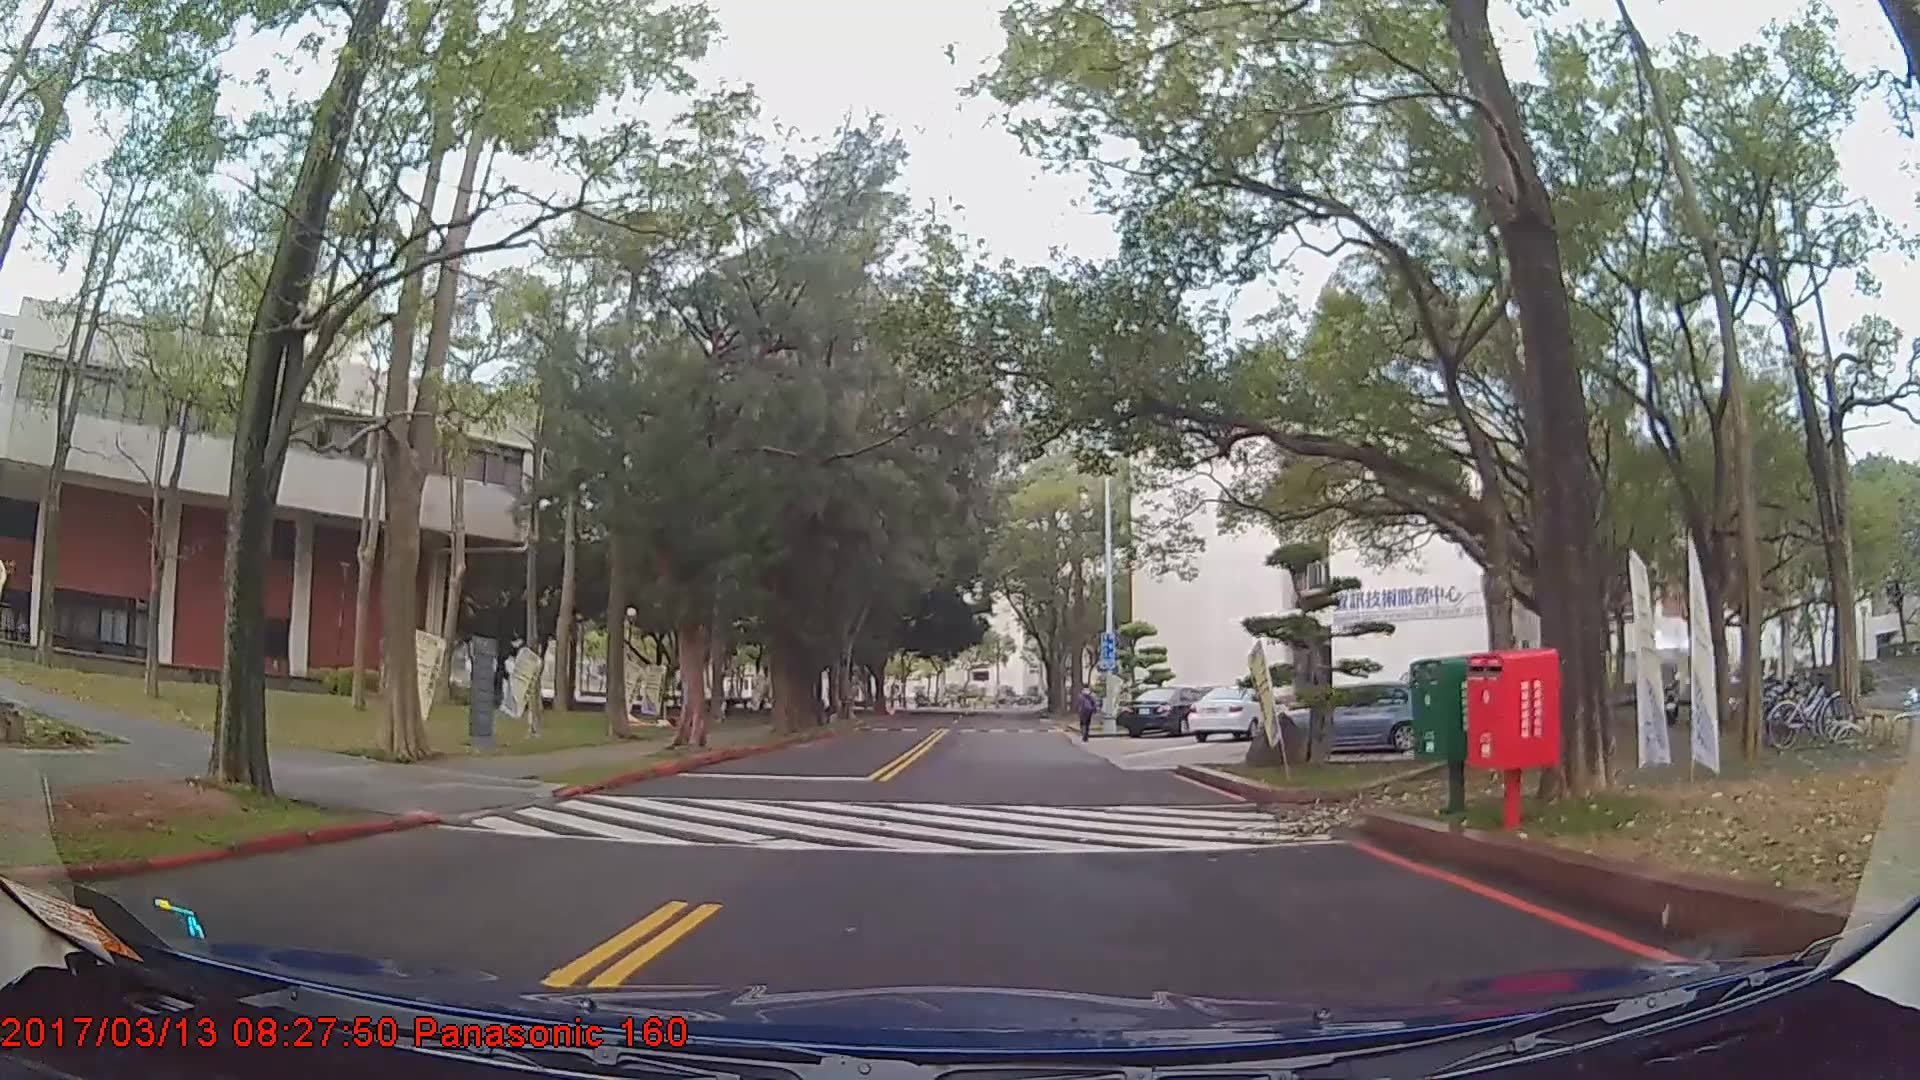pedestrian: (1072, 683, 1098, 746)
vehicle: (1184, 682, 1277, 744), (1116, 686, 1215, 737)
